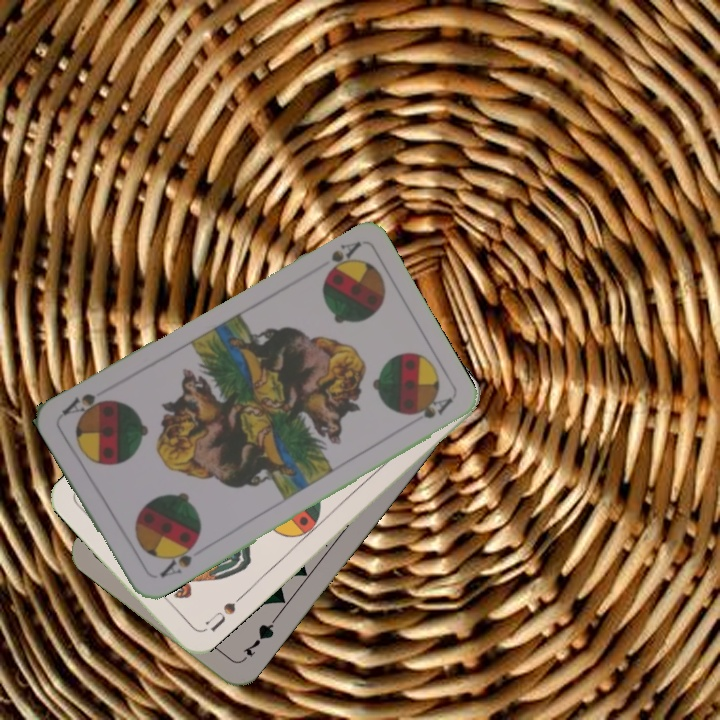G7: (237, 614, 279, 664)
SA: (155, 537, 199, 580), (320, 237, 363, 279)
SU: (201, 598, 238, 635)
